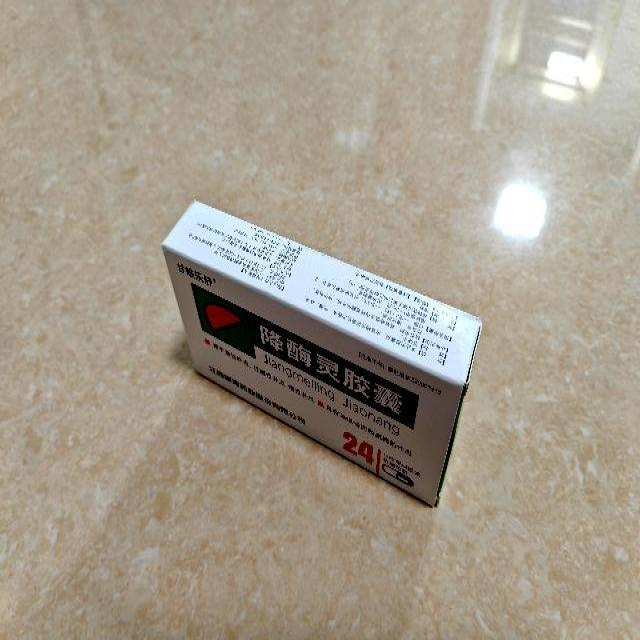box: (162, 198, 483, 506)
